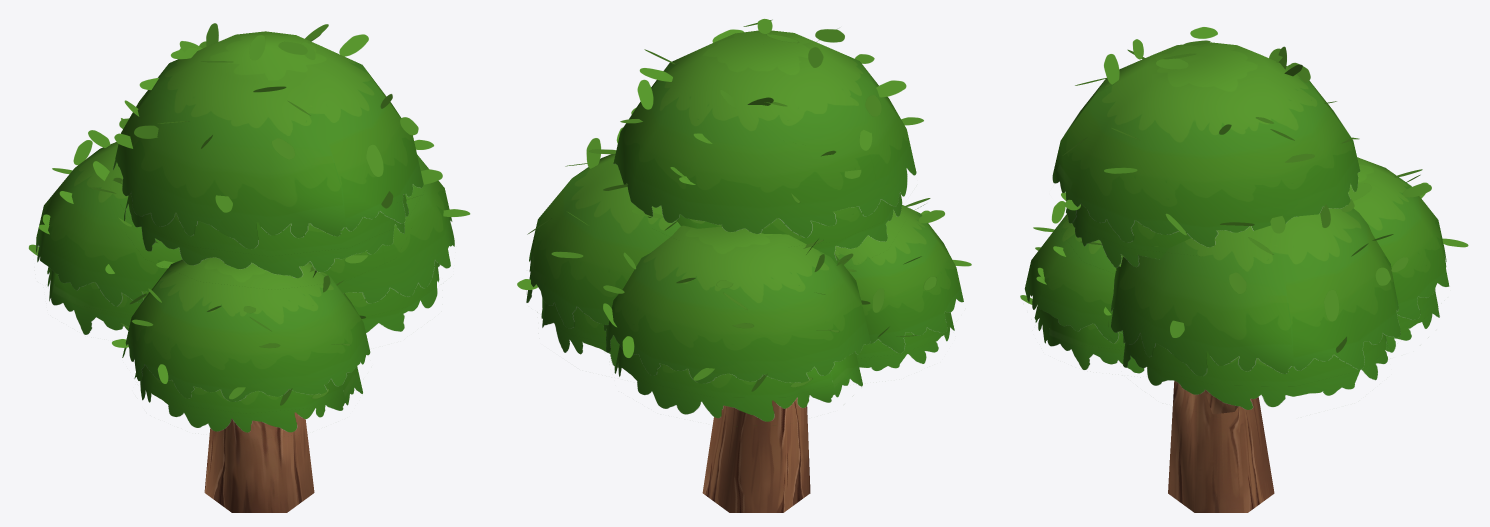
The model's file is Tree.glb.
3 views of the same model, side by side, from view 1: azimuth 30°, elevation 25°; view 2: azimuth 150°, elevation 25°; view 3: azimuth 270°, elevation 25° (orthographic). The views are drawn at different scales.
Visible parts, largest first — view 1: TreeLeaveBunch.003, TreeLeaveBunch.008, TreeLeaveBunch.009, TreeLeaveBunch.002, TreeBody; view 2: TreeLeaveBunch.003, TreeLeaveBunch.009, TreeLeaveBunch.002, TreeLeaveBunch.008, TreeBody; view 3: TreeLeaveBunch.003, TreeLeaveBunch.002, TreeBody, TreeLeaveBunch.008, TreeLeaveBunch.009.
Part boxes in pixels (left/top/right/bottom): TreeLeaveBunch.003: left=113, top=23, right=423, bottom=278; TreeLeaveBunch.008: left=112, top=257, right=370, bottom=432; TreeLeaveBunch.009: left=28, top=118, right=182, bottom=334; TreeLeaveBunch.002: left=308, top=139, right=470, bottom=332; TreeBody: left=204, top=412, right=314, bottom=512; TreeLeaveBunch.003: left=589, top=18, right=923, bottom=264; TreeLeaveBunch.009: left=603, top=219, right=870, bottom=421; TreeLeaveBunch.002: left=517, top=127, right=721, bottom=367; TreeLeaveBunch.008: left=834, top=198, right=971, bottom=370; TreeBody: left=702, top=397, right=810, bottom=512; TreeLeaveBunch.003: left=1052, top=27, right=1360, bottom=267; TreeLeaveBunch.002: left=1111, top=183, right=1400, bottom=409; TreeBody: left=1168, top=380, right=1274, bottom=512; TreeLeaveBunch.008: left=1020, top=192, right=1144, bottom=373; TreeLeaveBunch.009: left=1350, top=157, right=1468, bottom=352.
Size of the model in its own units: 7.65 by 9.36 by 8.74.
3 materials, 3 textured.
